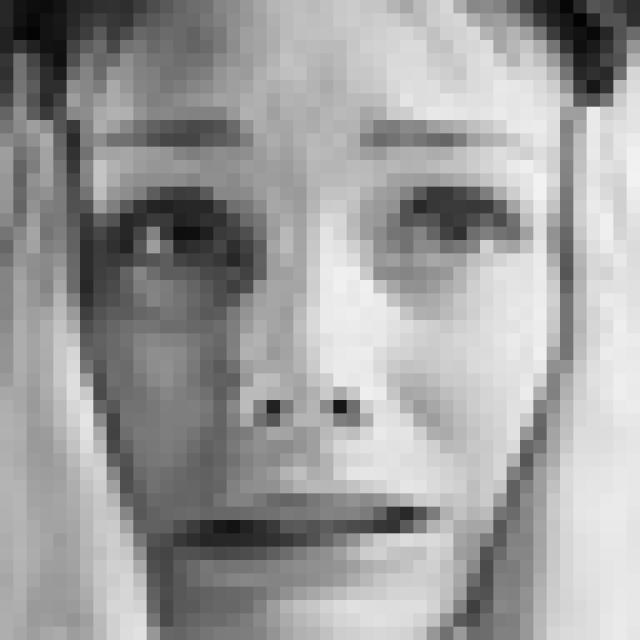fear: (85, 104, 554, 605)
